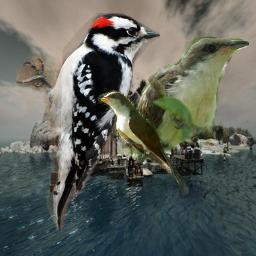Cuckoo: (126, 36, 249, 161), (98, 89, 189, 194)
Woodpecker: (16, 13, 160, 230)
